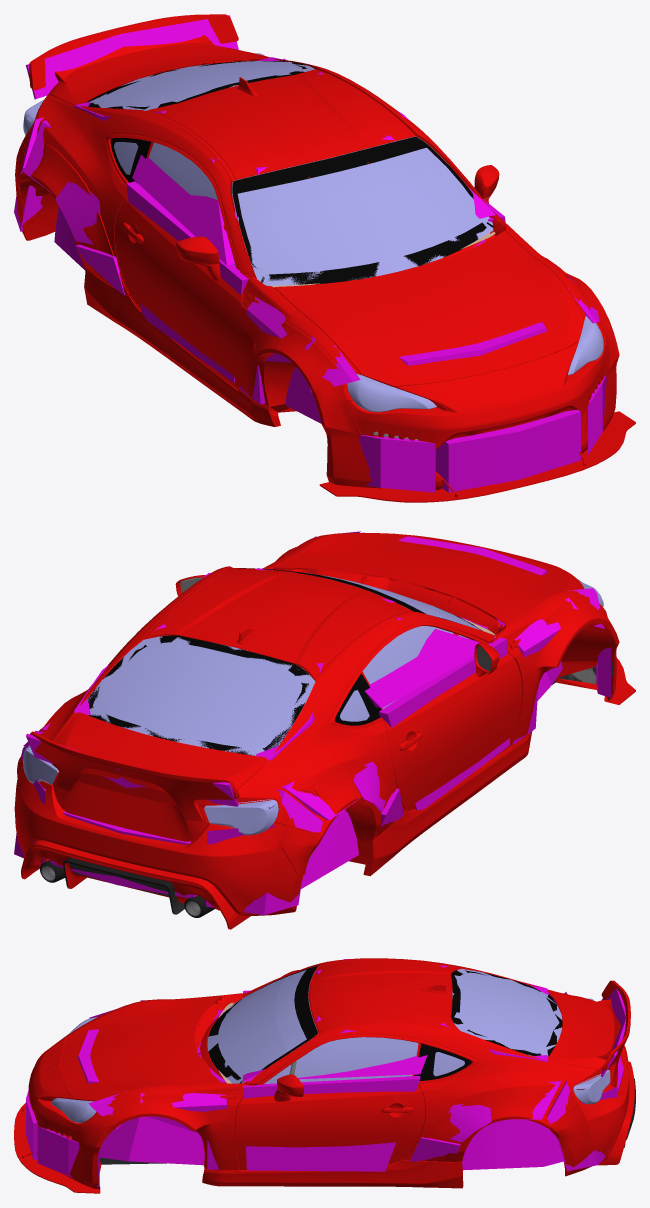
Rendered from NFS1.fbx.
3 renders of one model, top to bottom at view 1: azimuth 30°, elevation 25°; view 2: azimuth 150°, elevation 25°; view 3: azimuth 270°, elevation 25°, orthographic. The views are drawn at different scales.
Visible parts, largest first — view 1: polySurface21, nfs8:polySurface1299, pasted__polySurface136, nfs1:polySurface1265, pasted__BumperRCol2, nfs9:polySurface1309, nfs17:polySurface266, DoorFrontRightCol1, pasted__BumperRCol1, SpoilerCol, nfs11:polySurface1033, DoorFrontRightCol (+9 smaller); view 2: polySurface21, BumperRear, nfs9:polySurface1309, nfs1:polySurface1265, nfs11:polySurface1033, DoorFrontRightCol1, nfs17:polySurface266, DoorFrontRightCol, pasted__pasted__BodyCol1, nfs2:polySurface250, nfs1:polySurface1301, pasted__pasted__BodyCol2 (+10 smaller); view 3: polySurface21, nfs:polySurface1290, nfs9:polySurface1309, DoorFrontLeftCol, BumperRear, pasted__pasted__BodyCol2, nfs8:polySurface1299, pasted__polySurface136, pasted__pasted__BodyCol1, nfs16:polySurface1315, nfs:polySurface1307, nfs5:polySurface101 (+13 smaller).
Part boxes in pixels (x1,y1,x2,y2): polySurface21: [18, 43, 607, 480]; nfs8:polySurface1299: [237, 167, 493, 285]; pasted__polySurface136: [311, 321, 635, 502]; nfs1:polySurface1265: [114, 196, 242, 387]; pasted__BumperRCol2: [435, 409, 580, 492]; nfs9:polySurface1309: [90, 61, 314, 110]; nfs17:polySurface266: [237, 305, 346, 405]; DoorFrontRightCol1: [132, 155, 236, 265]; pasted__BumperRCol1: [359, 435, 435, 492]; SpoilerCol: [26, 15, 238, 99]; nfs11:polySurface1033: [29, 14, 238, 90]; DoorFrontRightCol: [126, 181, 249, 382]; polySurface21: [19, 532, 616, 917]; BumperRear: [14, 761, 323, 929]; nfs9:polySurface1309: [88, 635, 315, 755]; nfs1:polySurface1265: [383, 633, 521, 810]; nfs11:polySurface1033: [30, 731, 239, 821]; DoorFrontRightCol1: [365, 616, 491, 708]; nfs17:polySurface266: [515, 597, 609, 741]; DoorFrontRightCol: [378, 637, 510, 810]; pasted__pasted__BodyCol1: [74, 568, 395, 888]; nfs2:polySurface250: [288, 765, 405, 839]; nfs1:polySurface1301: [362, 626, 470, 708]; pasted__pasted__BodyCol2: [398, 536, 562, 700]; polySurface21: [33, 958, 627, 1188]; nfs:polySurface1290: [235, 1061, 425, 1169]; nfs9:polySurface1309: [452, 968, 562, 1056]; DoorFrontLeftCol: [243, 1076, 420, 1171]; BumperRear: [548, 1045, 635, 1176]; pasted__pasted__BodyCol2: [77, 1009, 225, 1165]; nfs8:polySurface1299: [207, 976, 288, 1083]; pasted__polySurface136: [14, 1050, 115, 1193]; pasted__pasted__BodyCol1: [315, 965, 563, 1170]; nfs16:polySurface1315: [90, 1095, 239, 1170]; nfs:polySurface1307: [264, 1037, 418, 1083]; nfs5:polySurface101: [405, 1092, 572, 1161].
Bounding box in the file's own units: 194 × 119 × 436.
12 materials, 1 textured.
